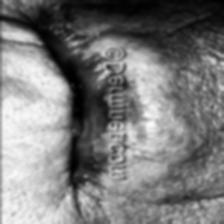Potentially Malignant Skin Tumors: (95, 124, 163, 171), (99, 90, 130, 108)
